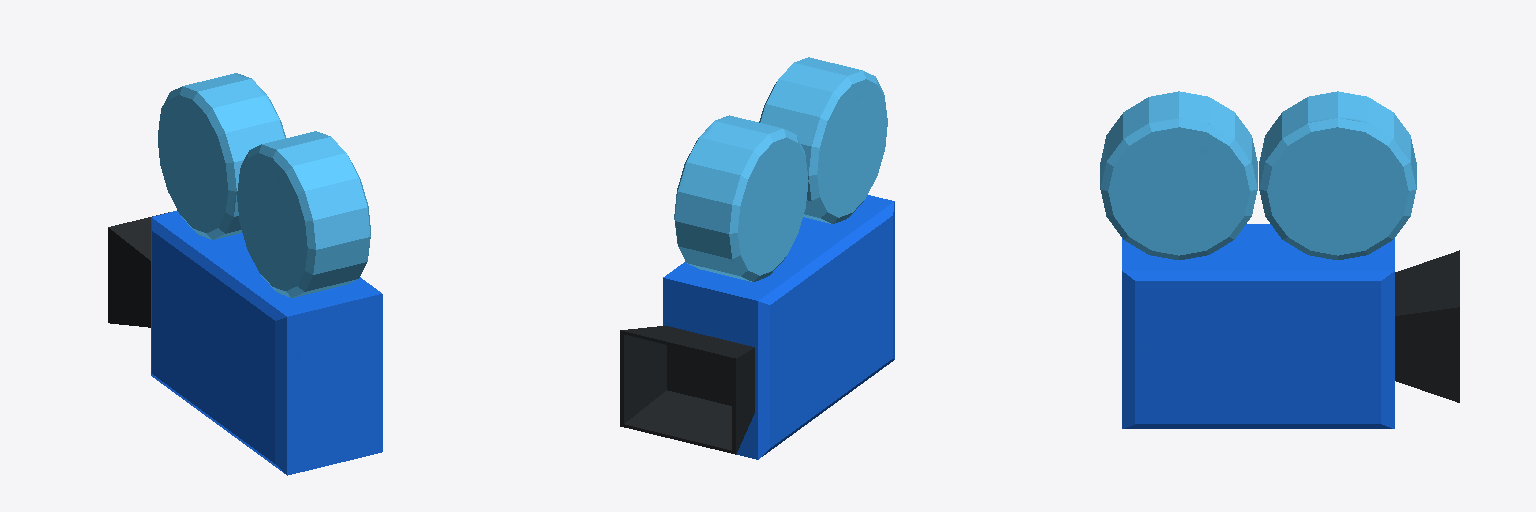
The picture shows the model from 3 angles: view 1: azimuth 30°, elevation 25°; view 2: azimuth 150°, elevation 25°; view 3: azimuth 270°, elevation 25°; orthographic projection.
Visible parts, largest first — view 1: Cube; view 2: Cube; view 3: Cube.
Part boxes in pixels (bbox=[...]): Cube: bbox=[108, 73, 382, 475]; Cube: bbox=[620, 57, 894, 459]; Cube: bbox=[1100, 91, 1459, 428].
Bounding box in the file's own units: 0.7438 × 1.84 × 1.99.
1 materials, 1 textured.